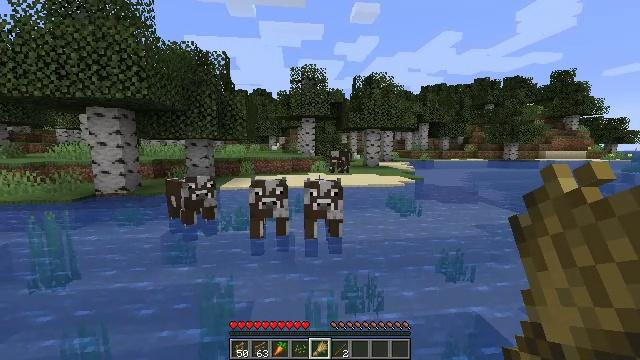cow: (304, 178, 343, 238), (250, 177, 289, 236), (165, 177, 216, 222), (330, 148, 350, 173)
